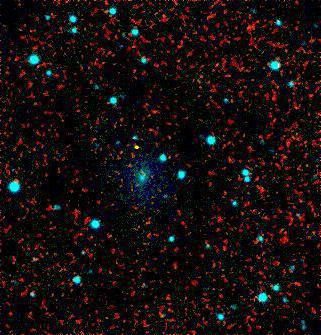star: (124, 131, 154, 161)
